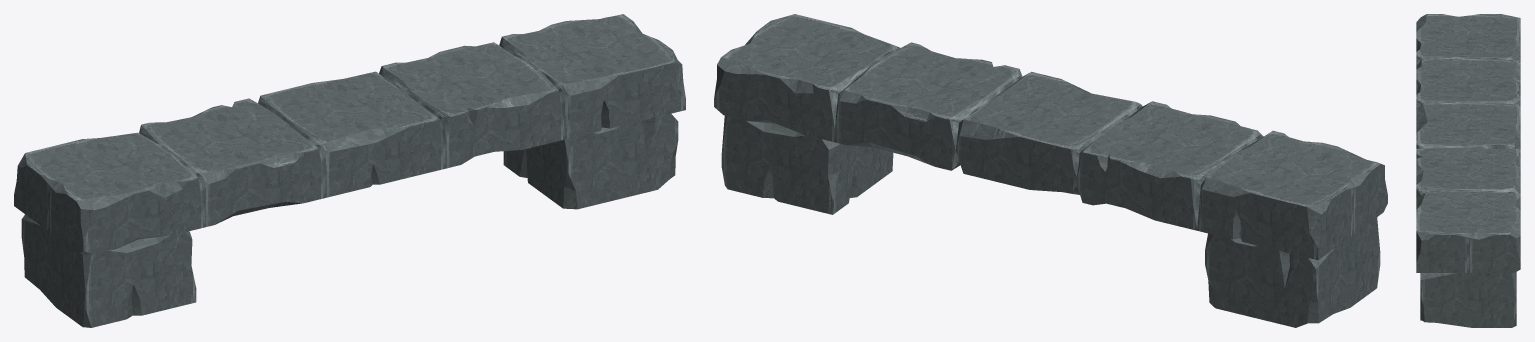
Rendered from Stone Bridge W5.fbx.
The picture shows the model from 3 angles, left to right: view 1: azimuth 30°, elevation 25°; view 2: azimuth 150°, elevation 25°; view 3: azimuth 270°, elevation 25°; orthographic projection. The views are drawn at different scales.
Visible parts, largest first — view 1: StoneBridge_W5; view 2: StoneBridge_W5; view 3: StoneBridge_W5.
Boxes of the visible parts, x1=… form: StoneBridge_W5: x1=14, y1=14, x2=685, y2=327; StoneBridge_W5: x1=714, y1=14, x2=1387, y2=327; StoneBridge_W5: x1=1416, y1=14, x2=1520, y2=327.
Size of the model in its own units: 5 by 1 by 1.
